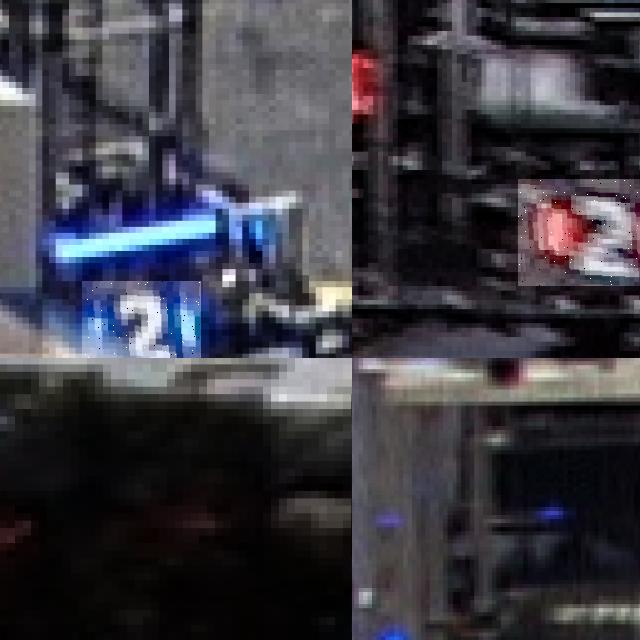B2: (82, 281, 202, 358)
R2: (518, 179, 640, 285)
